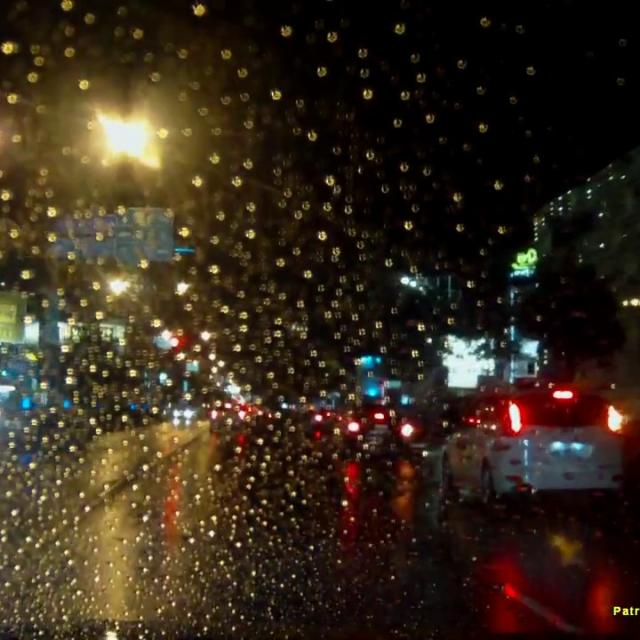Car: (433, 381, 630, 504), (330, 400, 410, 454), (206, 402, 240, 432)
